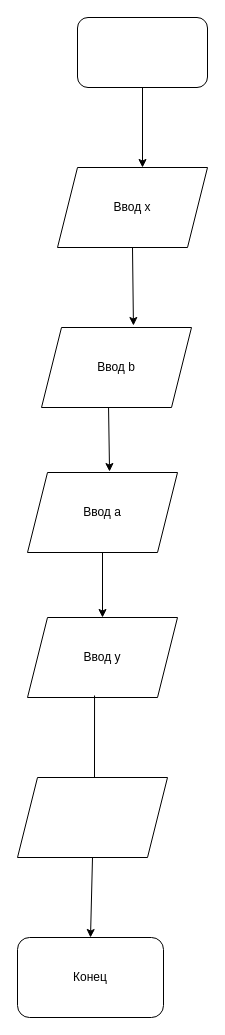
This 225x1035 diagram has some shape labels left out. Each missing label, with the box of its shape:
T= √x+b-a+ln y/arctg(b+a): (16, 776, 168, 858)
Ввод: (76, 16, 208, 88)
